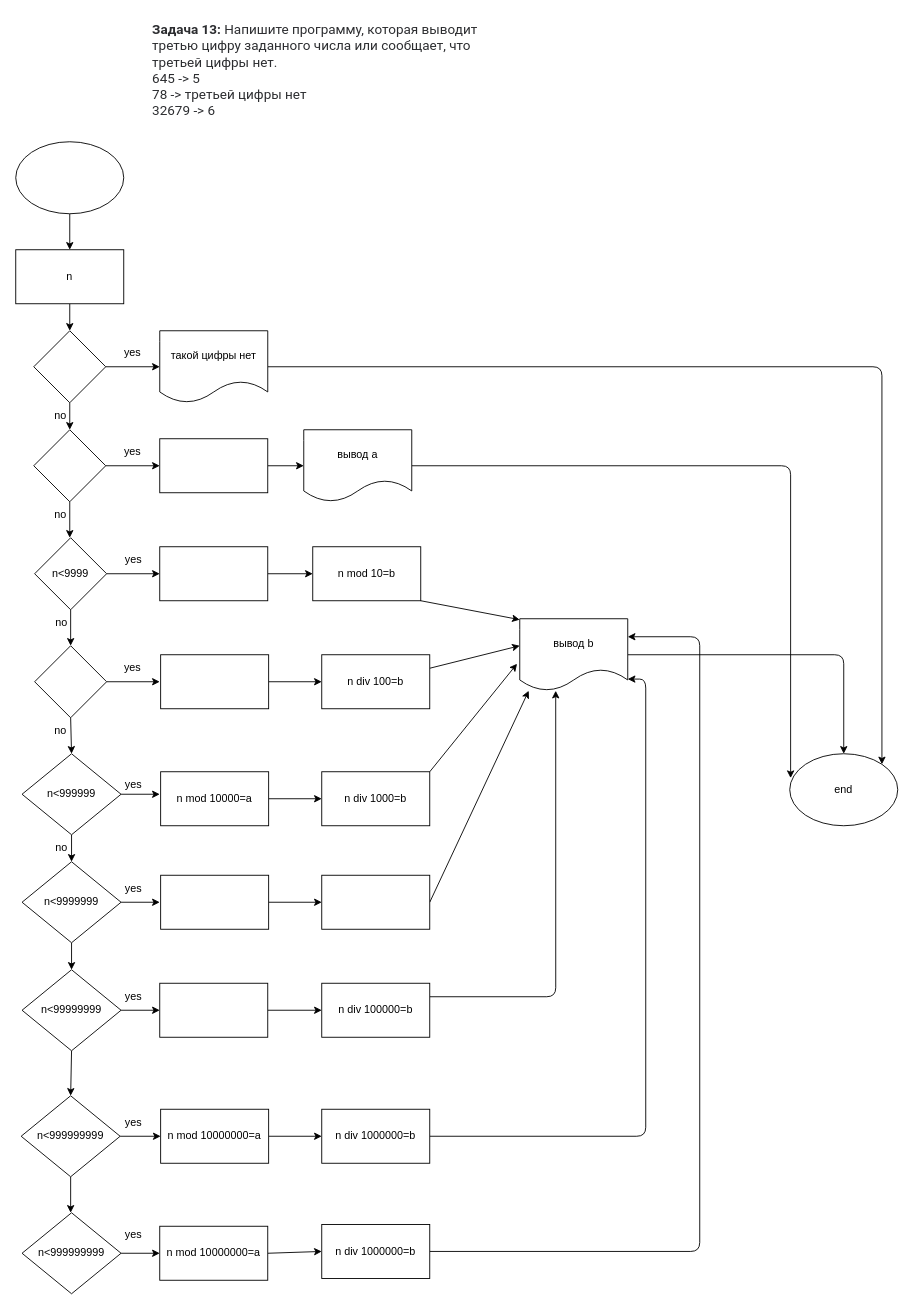
This 914x1310 diagram has some shape labels left out. Here are the shapes that lost their labels. From the top down, the centre of each, then its label:
(x=69, y=177): start
(x=69, y=366): n<=99
(x=69, y=465): n<=999
(x=213, y=465): n mod 10=a
(x=213, y=573): n mod 100=a
(x=70, y=681): n<99999
(x=214, y=681): n mod 1000=a
(x=214, y=901): n mod 100000=a
(x=375, y=901): n div 10000=b
(x=213, y=1009): n mod 1000000=a
